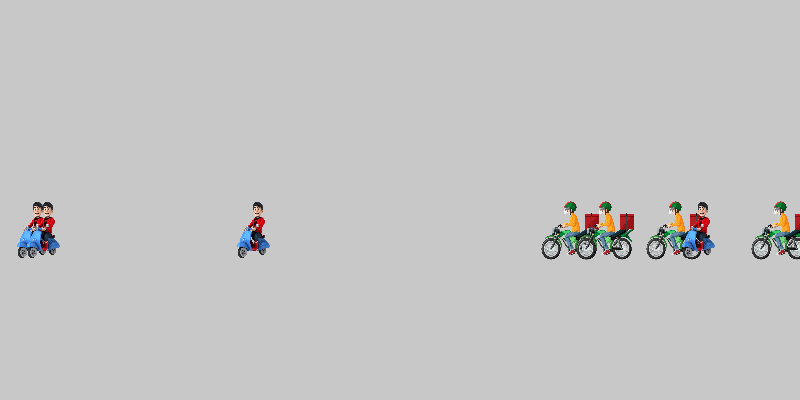helmet: (540, 200, 600, 260), (575, 200, 635, 260), (645, 200, 705, 260), (750, 200, 800, 260)
no_helmet: (5, 200, 65, 260), (15, 200, 75, 260), (225, 200, 285, 260), (670, 200, 730, 260)
